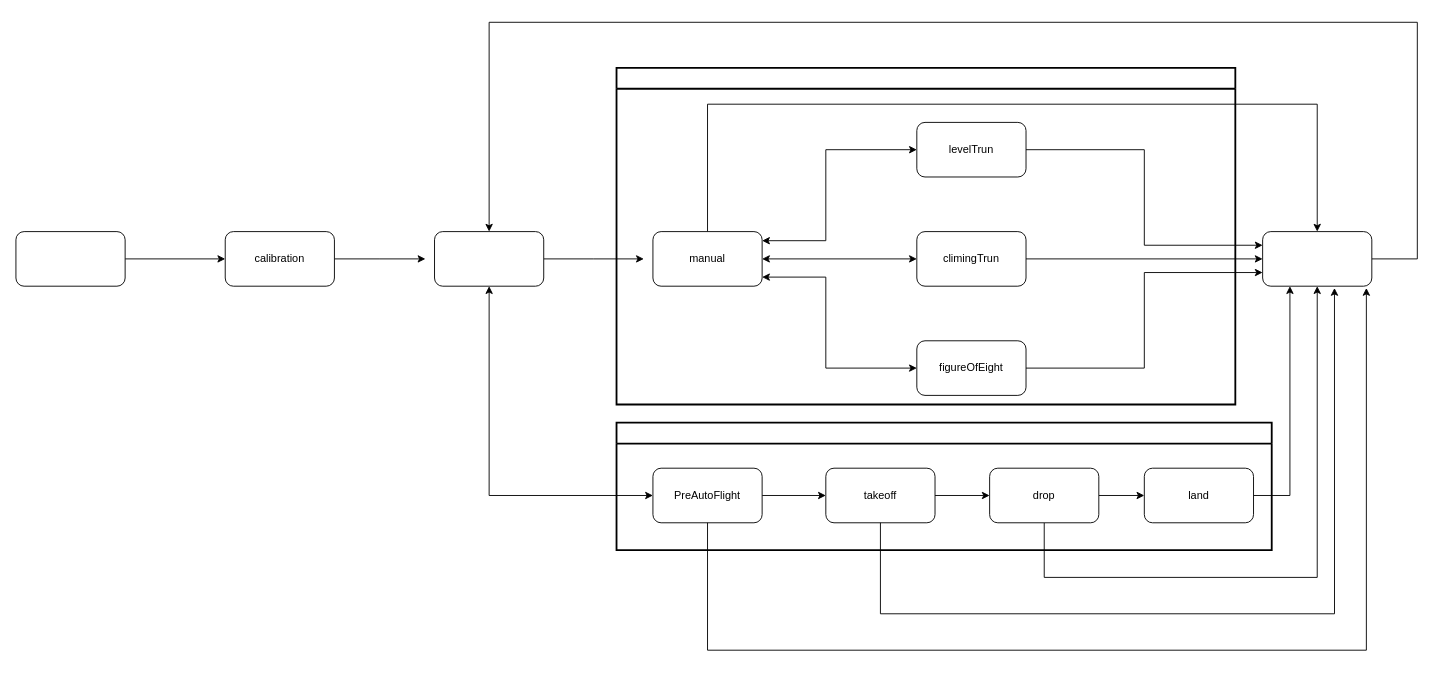
This 1441x673 diagram has some shape labels left out. The shapes that lost their labels are listed below. From the top down, each one's centre as x and y in pixels, then its label:
[925,235]: 通常ミッション
[70,258]: init
[489,258]: preFlight
[1317,258]: disarm
[943,486]: 自動操縦
